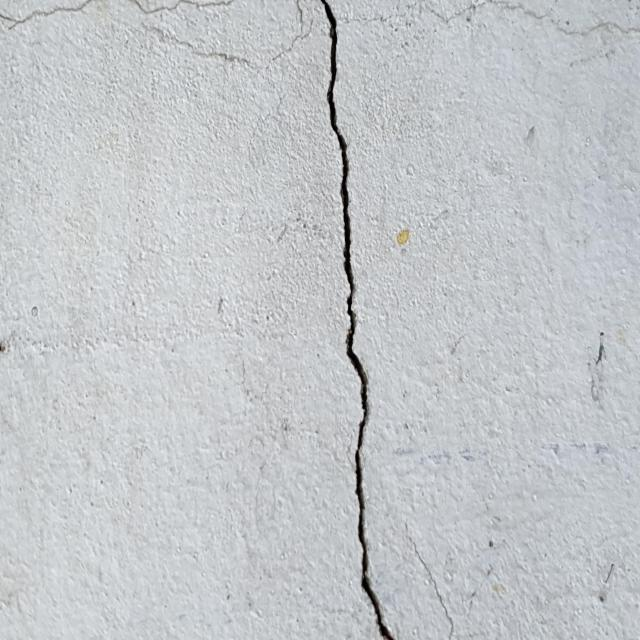SurfaceCrack: (281, 1, 427, 640)
